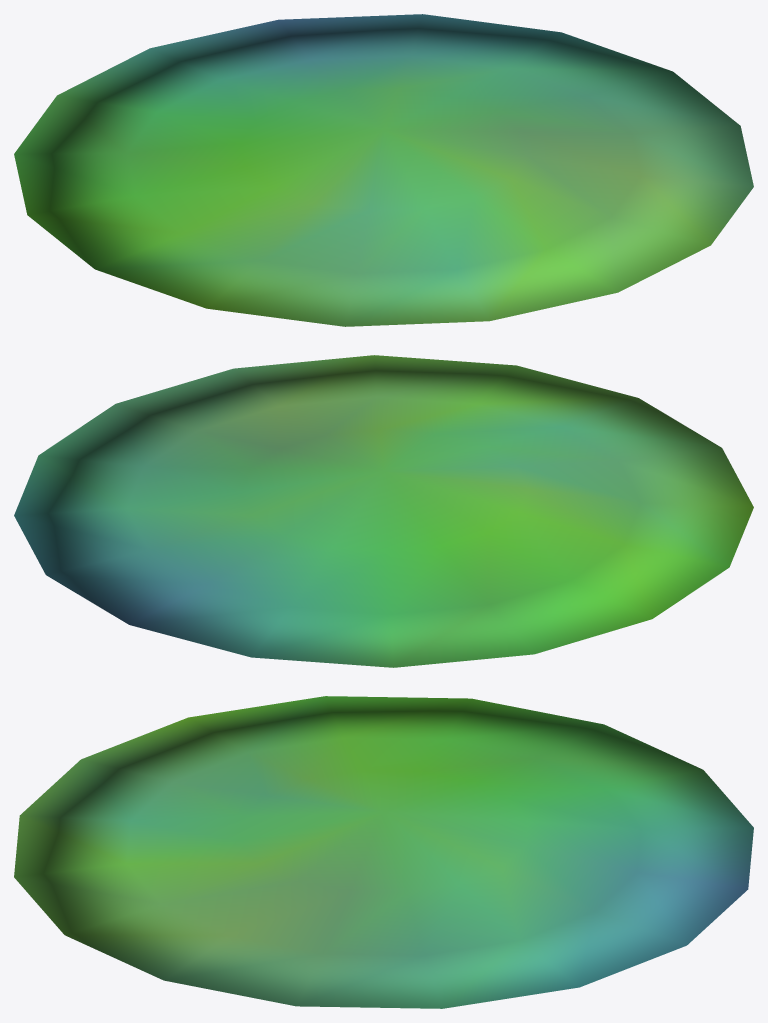
File: space-galaxies-galaxy_v12.glb
3 views of the same model, one above another, from view 1: azimuth 30°, elevation 25°; view 2: azimuth 150°, elevation 25°; view 3: azimuth 270°, elevation 25° (orthographic).
Visible parts, largest first — view 1: Galaxy_v12; view 2: Galaxy_v12; view 3: Galaxy_v12.
Part boxes in pixels (<box>): Galaxy_v12: <box>14,14,753,326</box>; Galaxy_v12: <box>14,355,753,667</box>; Galaxy_v12: <box>14,696,753,1008</box>.
Bounding box in the file's own units: 0.5 × 0.0548 × 0.5.
